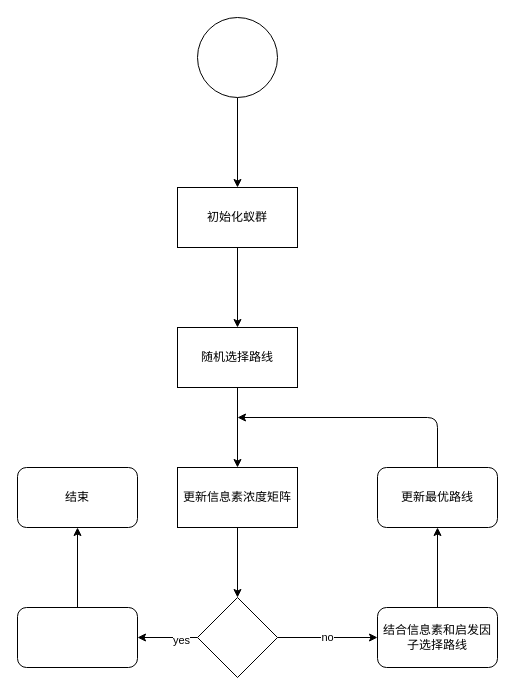
The diagram is 515 pixels wide and 695 high, and some of its shapes have lost their labels. Here are the shapes that lost their labels. From the top down, the centre of each, then its label:
At point 237,57: "开始".
At point 77,637: "输出最优路线".
At point 237,637: "达到迭代次数".
